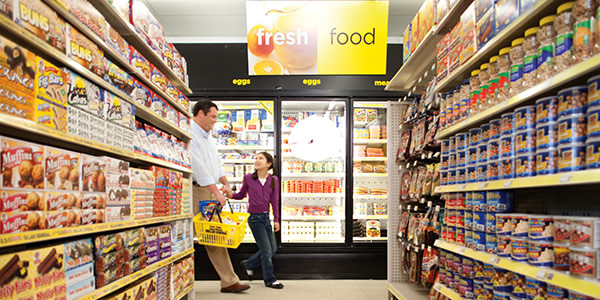Age_40_50: (193, 99, 222, 133)
Age_below20: (254, 152, 274, 171)
E_White: (193, 99, 222, 133), (254, 152, 274, 171)
Emotion_Happy: (193, 99, 222, 133), (254, 152, 274, 171)
G_ Female: (254, 152, 274, 171)
G_Male: (193, 99, 222, 133)
